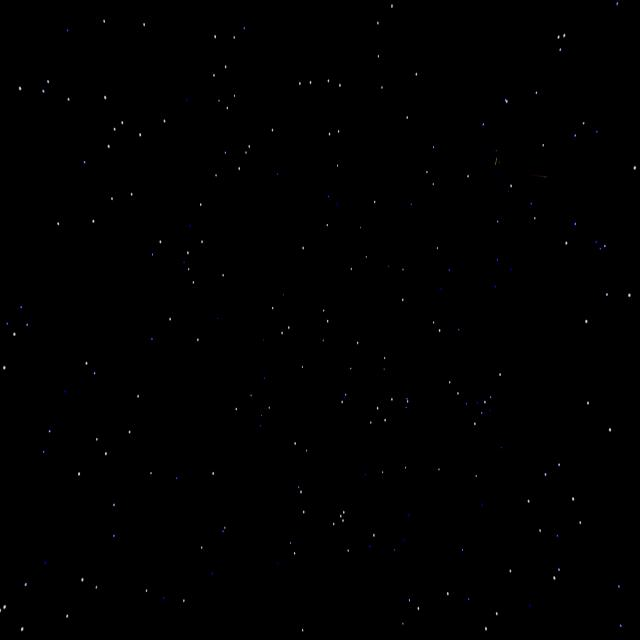satellite: (456, 138, 550, 255)
